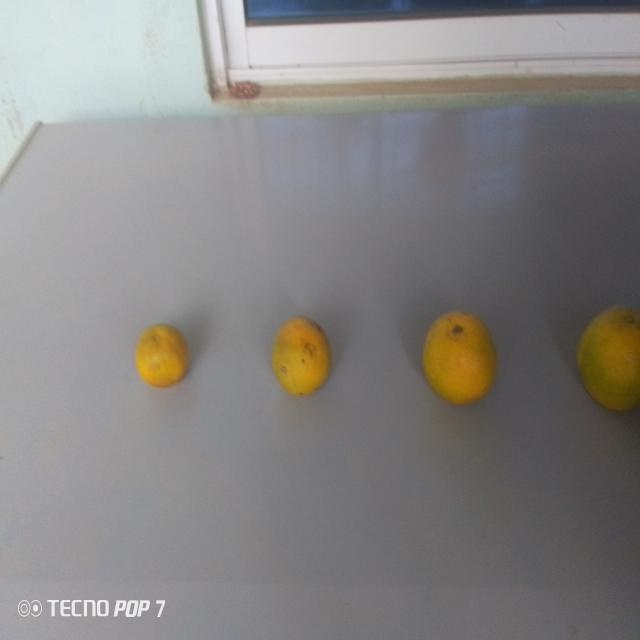agrume: (411, 297, 506, 417), (570, 298, 640, 423), (123, 310, 197, 412), (267, 311, 340, 411)
